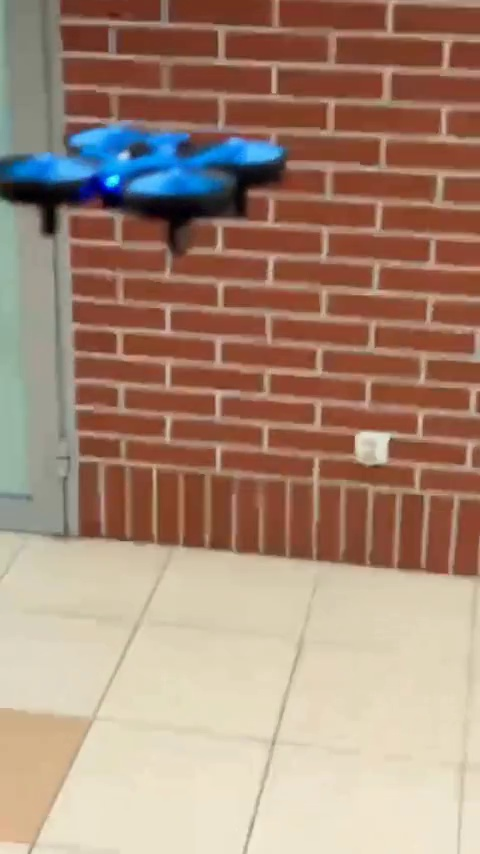drone: (2, 118, 298, 249)
